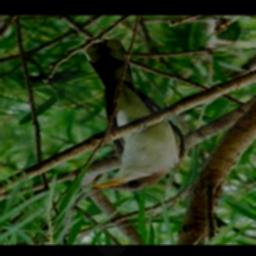Cuckoo: (82, 39, 185, 192)
